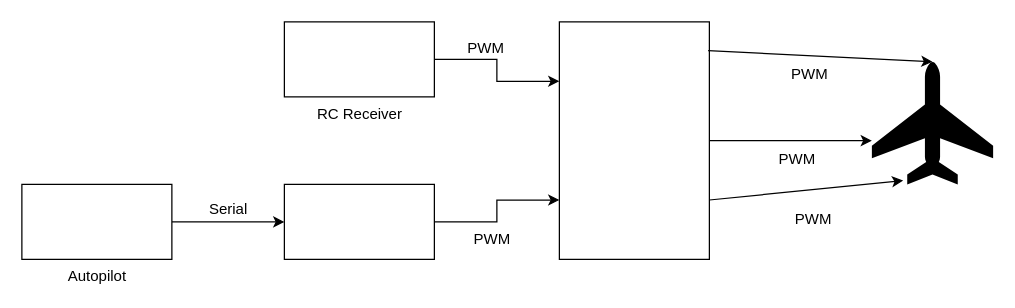
Some shapes in this 1015 by 308 pixel diagram are drawn without their labels. The shapes that lost their labels are listed below. From the top down, each one's centre as x and y in pixels, then its label:
(x=633, y=140): Multiplexor
(x=358, y=221): Servo Controller
